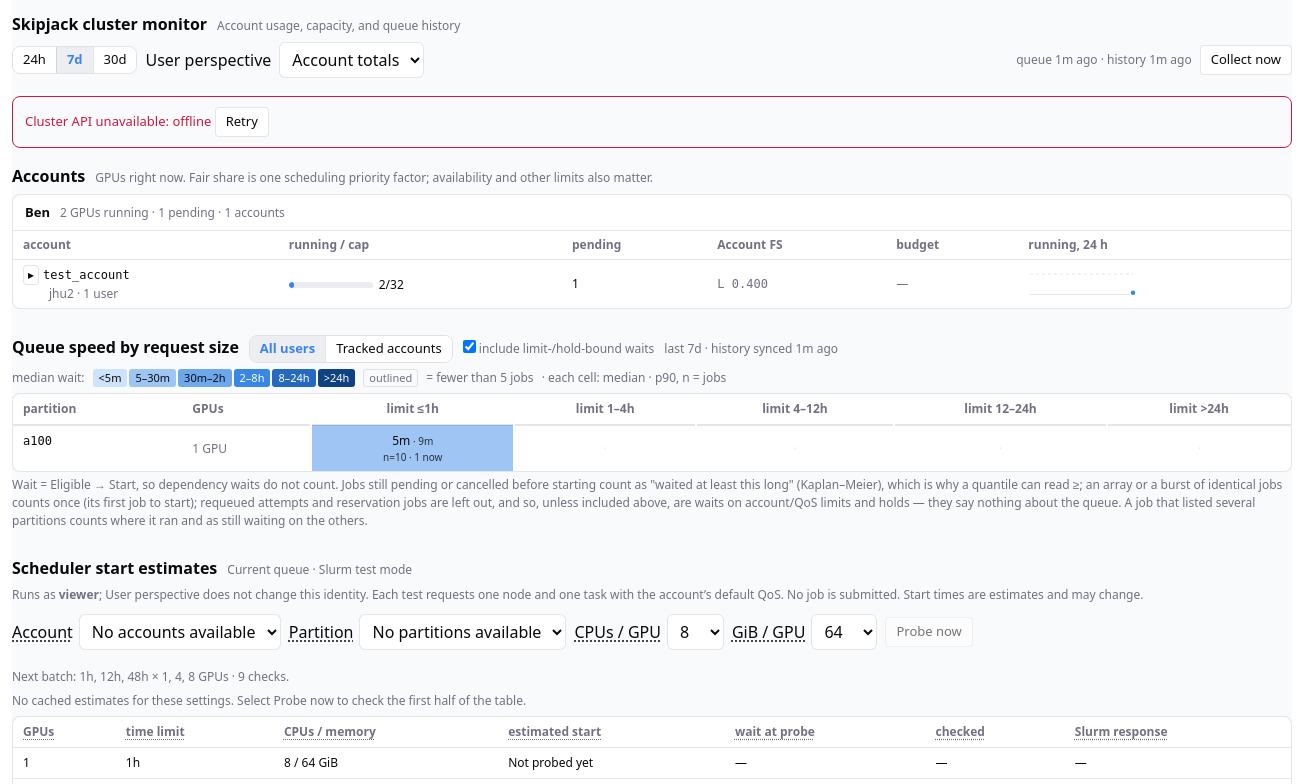
Test: standalone cluster monitor › retains successful data when polling fails and recovers on retry
Click the button "Retry".
click(242, 122)  # box top-left (215, 107), bottom-right (269, 136)
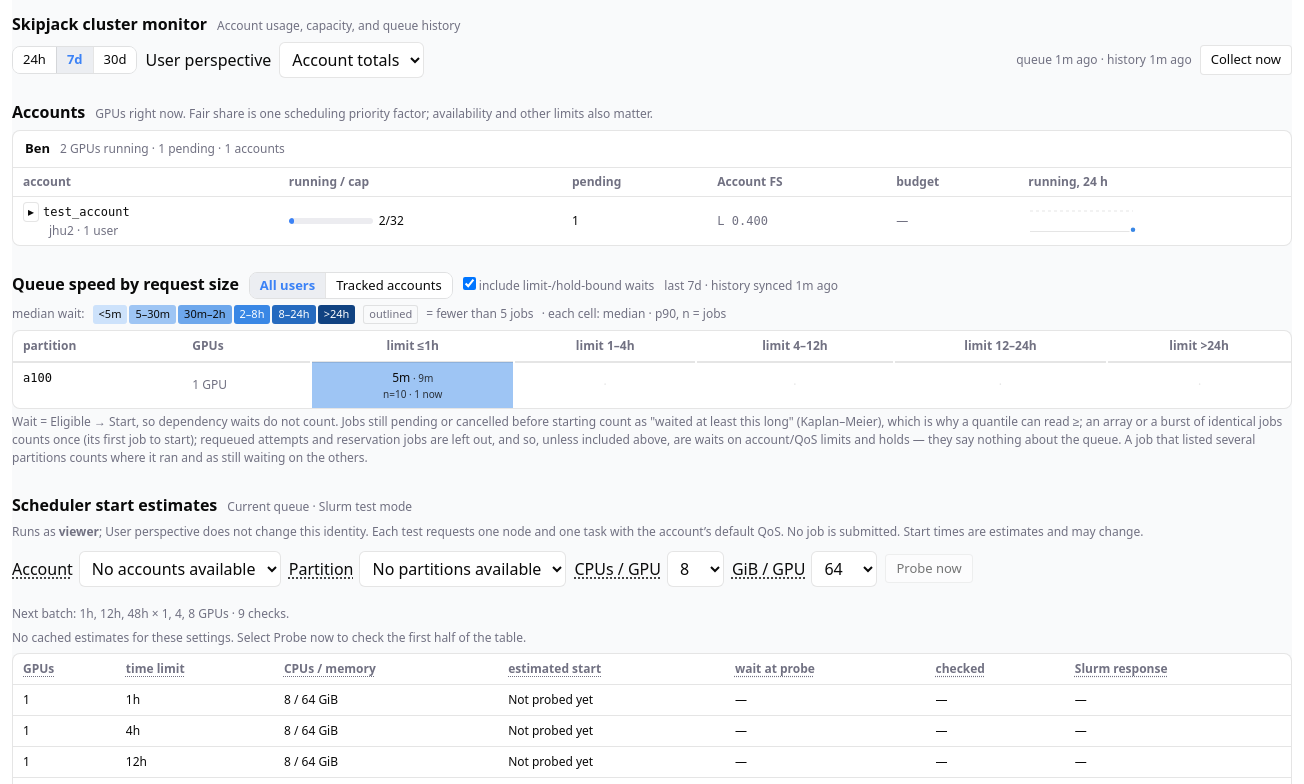
Expected: the text "Cluster API unavailable" is gone
